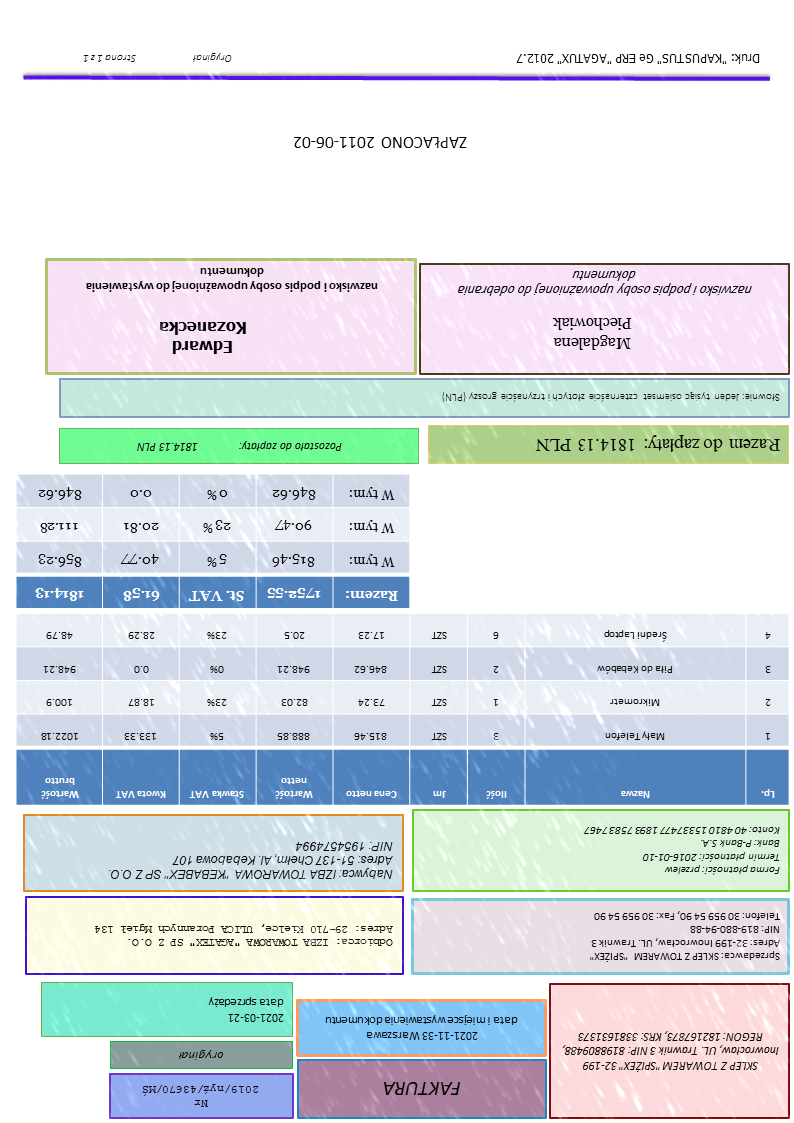Table: (14, 612, 793, 808), (13, 471, 412, 608)
TextBox: (102, 837, 399, 887), (581, 819, 784, 880), (588, 908, 784, 966), (81, 262, 382, 299), (558, 1027, 784, 1075), (90, 918, 397, 953), (453, 268, 757, 301), (437, 387, 786, 412), (322, 1013, 522, 1047), (536, 432, 786, 459), (513, 45, 767, 70), (286, 127, 472, 158), (131, 436, 346, 459), (156, 314, 250, 363), (138, 1078, 262, 1112), (550, 311, 636, 355), (206, 990, 289, 1030), (80, 50, 237, 70), (382, 1077, 465, 1102), (175, 1046, 227, 1063)
